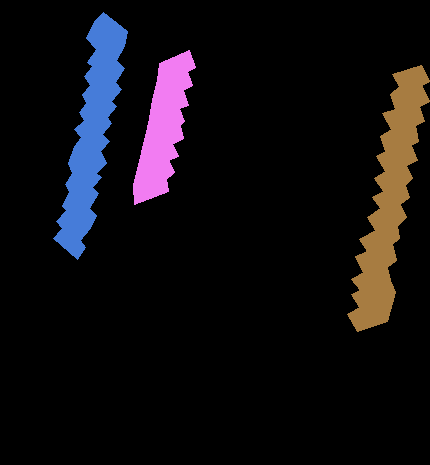parkingspot: (347, 65, 430, 331), (53, 12, 128, 259), (133, 50, 196, 204)
